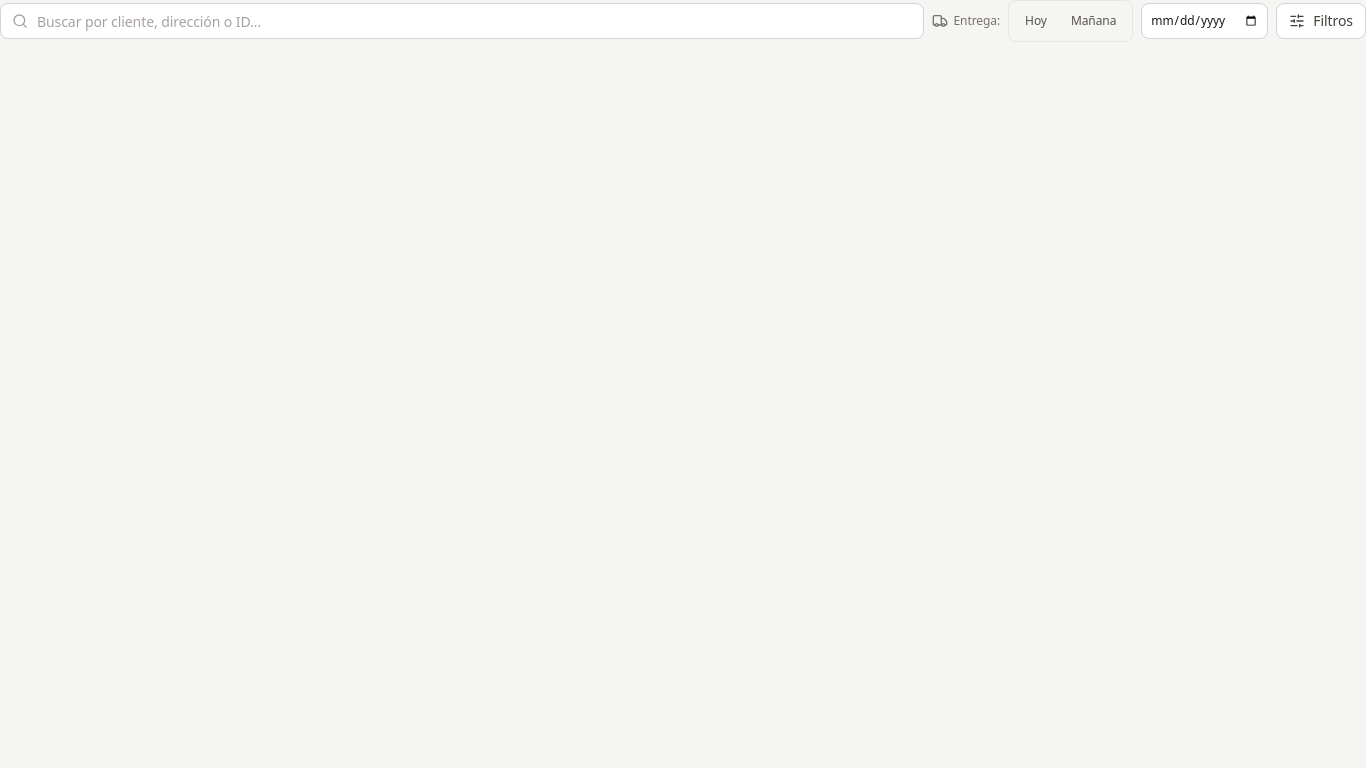
Test case: PedidoFilters — la segunda fila es sólo para admin › el admin ve los cuatro selectores extra y el control de entrega
Expected: the text "Entrega:" is shown, x1=954 y1=13 x2=1000 y2=29
Expected: the button "Hoy" is shown, x1=1013 y1=5 x2=1059 y2=37
What coordinates should you click on to do the following:
click the button with aria-label "Abrir filtros avanzados"
I would click on:
 (1321, 21)
Its box is x1=1276 y1=3 x2=1365 y2=39.
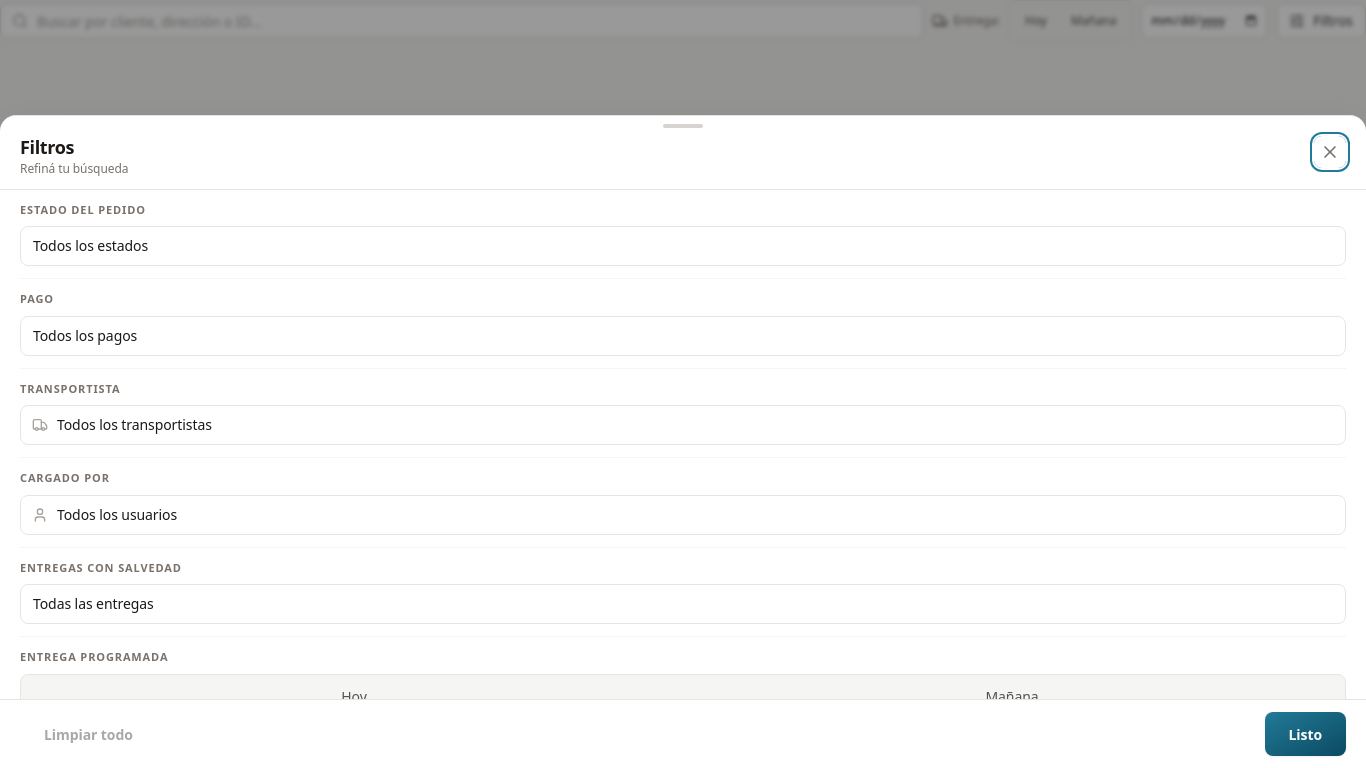
Result: the dropdown named "filtrar por estado de pago" is shown at x1=20 y1=316 x2=1346 y2=356
Result: the dropdown named "filtrar por transportista" is shown at x1=20 y1=405 x2=1346 y2=445
Result: the dropdown named "filtrar por usuario que cargó el pedido" is shown at x1=20 y1=495 x2=1346 y2=535
